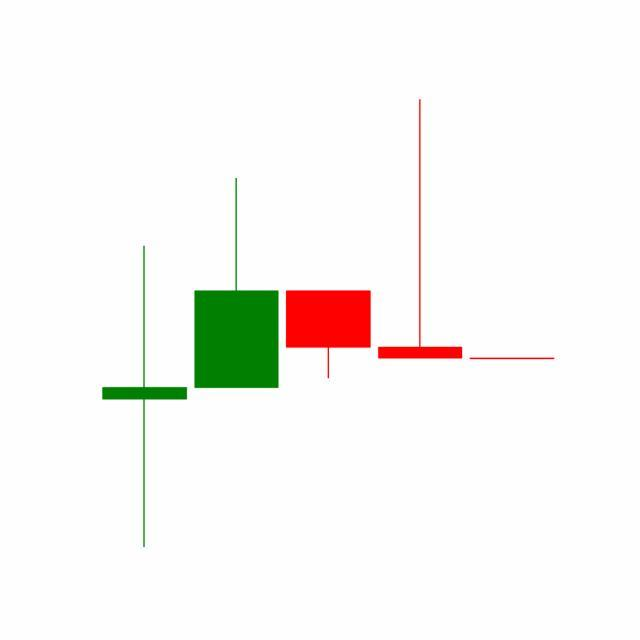Gravestone Doji: (374, 96, 468, 362)
